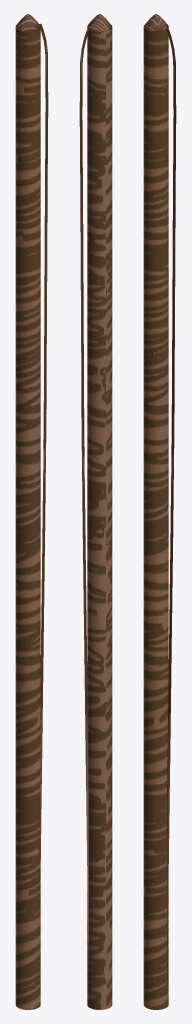
Rendered from flag_1953.glb.
The picture shows the model from 3 angles, left to right: view 1: azimuth 30°, elevation 25°; view 2: azimuth 210°, elevation 25°; view 3: azimuth 330°, elevation 25°; orthographic projection.
Visible parts, largest first — view 1: drapeau_1953.001; view 2: drapeau_1953.001; view 3: drapeau_1953.001.
Boxes of the visible parts, x1,y1,x2,y2 form: drapeau_1953.001: [15, 14, 48, 1009]; drapeau_1953.001: [79, 14, 112, 1009]; drapeau_1953.001: [143, 14, 176, 1009].
Bounding box in the file's own units: 0.2136 × 6.56 × 0.1506.
Materials: 1 (1 with a texture image).
